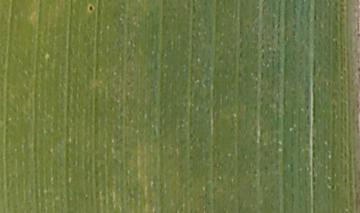tarspot: (87, 3, 94, 13)
